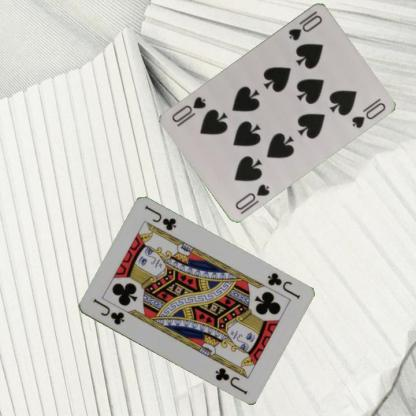10s: (232, 181, 271, 211), (286, 12, 324, 42)
Jc: (90, 294, 126, 326), (264, 270, 301, 300)
